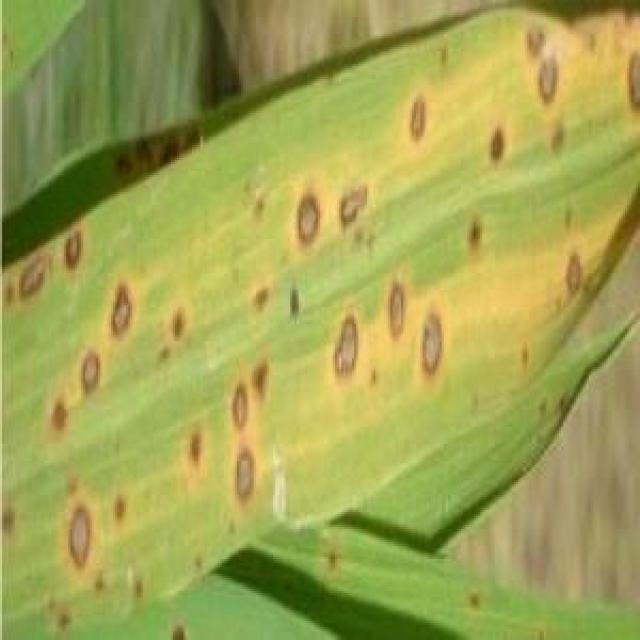Rice: (215, 364, 282, 536), (378, 279, 461, 384), (0, 225, 90, 313), (282, 174, 382, 246), (320, 309, 371, 402), (49, 356, 107, 435), (511, 32, 573, 103), (53, 500, 103, 585), (88, 282, 141, 349), (150, 294, 191, 378), (394, 83, 449, 138), (245, 276, 308, 322), (556, 243, 600, 301), (613, 43, 640, 125), (480, 114, 513, 166), (454, 214, 491, 258), (535, 110, 572, 152), (175, 430, 213, 469), (103, 490, 134, 530)
